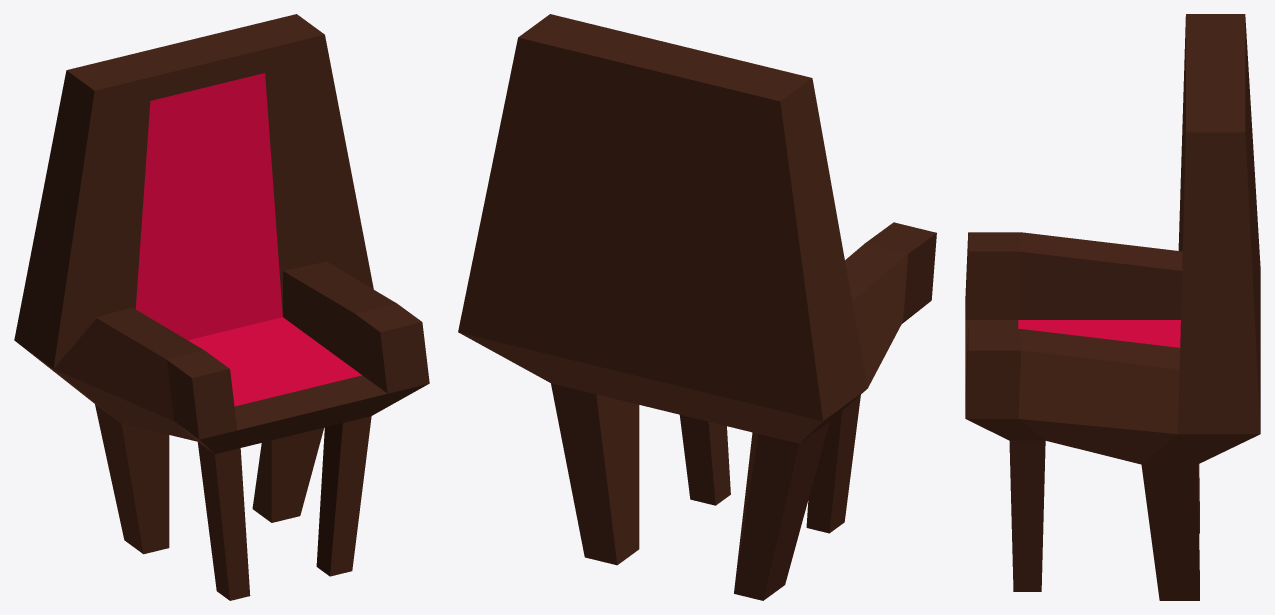
Rendered from chair.glb.
3 renders of one model, left to right at view 1: azimuth 30°, elevation 25°; view 2: azimuth 150°, elevation 25°; view 3: azimuth 270°, elevation 25°, orthographic. The views are drawn at different scales.
Visible parts, largest first — view 1: chair; view 2: chair; view 3: chair.
Part boxes in pixels (<box>): chair: <box>14,14,429,600</box>; chair: <box>458,14,936,600</box>; chair: <box>965,14,1260,600</box>.
Size of the model in its own units: 1.26 by 1.74 by 0.9526.
